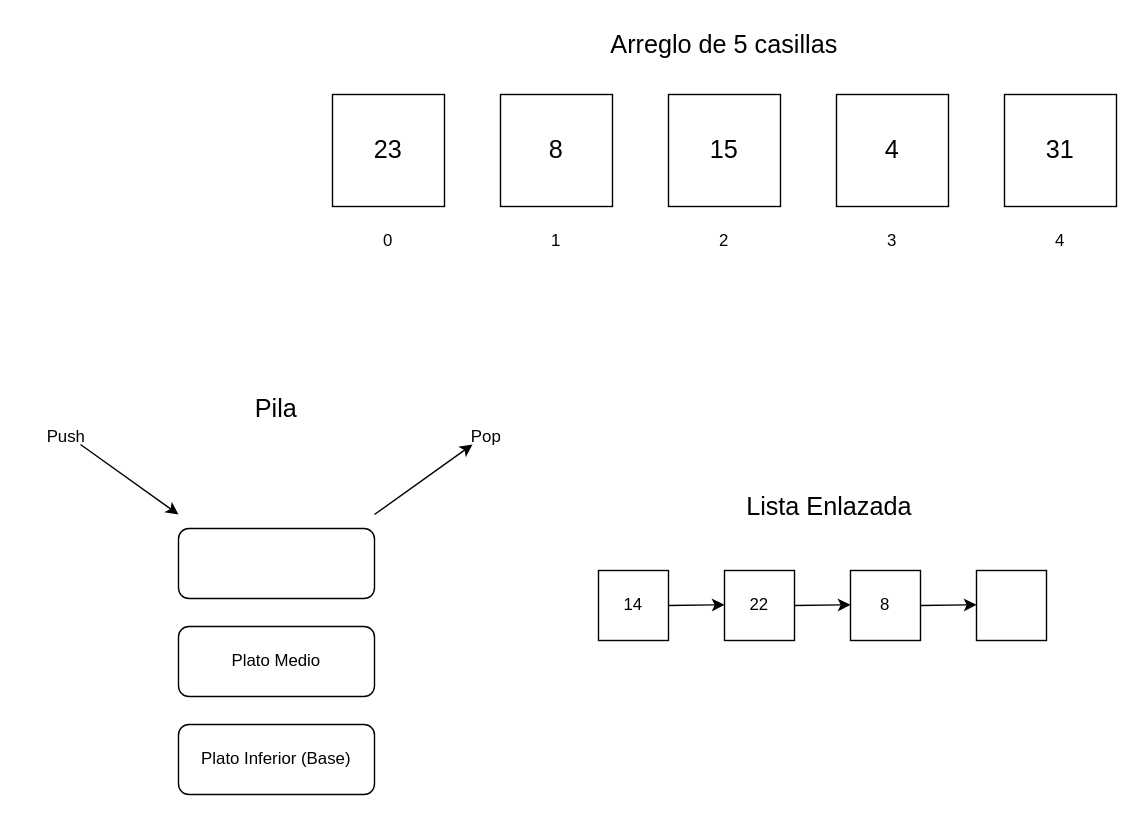
Some shapes in this 1141 by 819 pixel diagram are drawn without their labels. The shapes that lost their labels are listed below. From the top down, each one's box as (x1, y1, x2, y2) in pixels, then its label:
(177, 527, 374, 598): Plato Superior (Tope)
(975, 569, 1046, 640): Null
